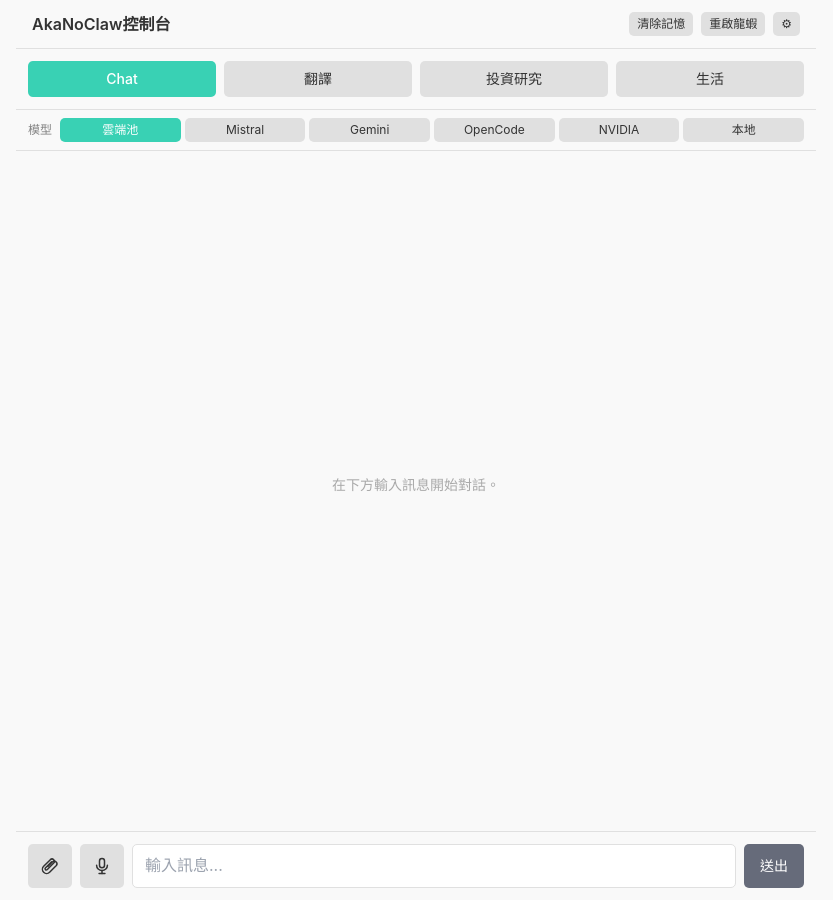
Test: App — workflow creation loop (web#8) › does not intercept normal chat text
Type "你好" into the text box at (434, 866), box left=132, top=844, right=736, bottom=888
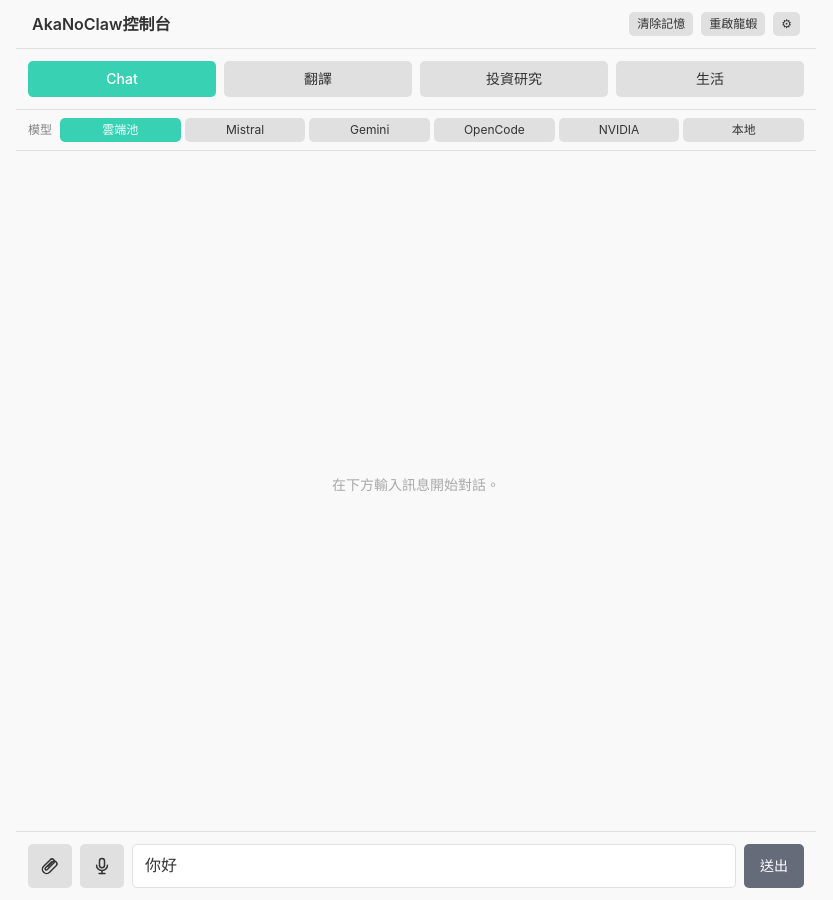
Click the button "送出" at (774, 866), box left=744, top=844, right=804, bottom=888
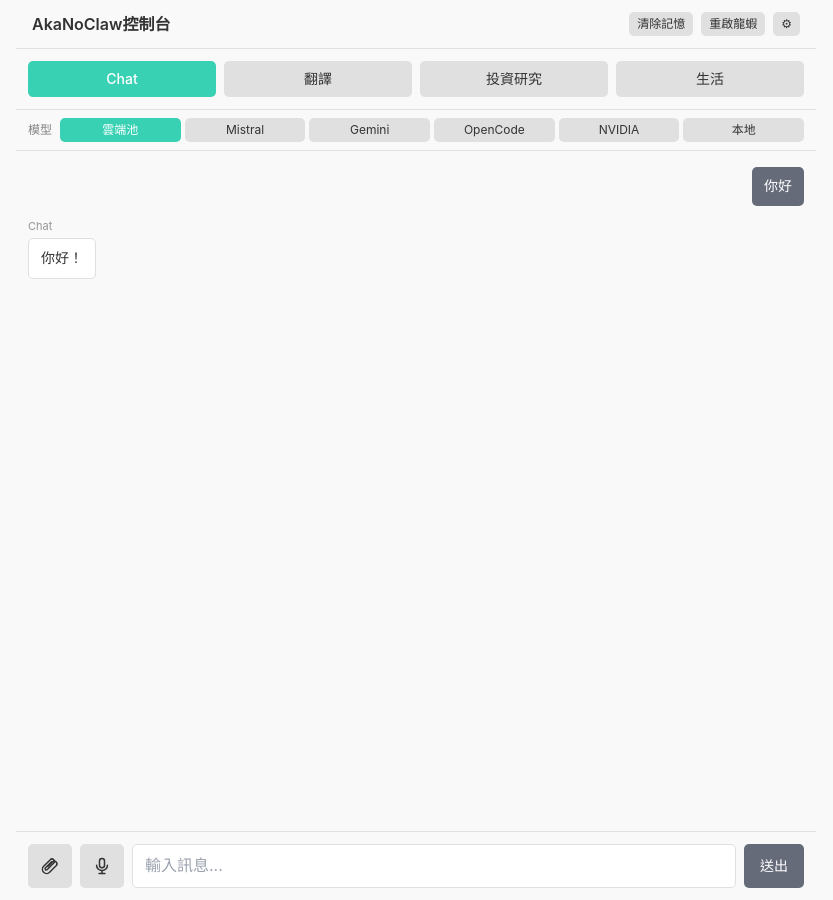
Expected: the text "你好！" is shown, left=28, top=238, right=96, bottom=279
